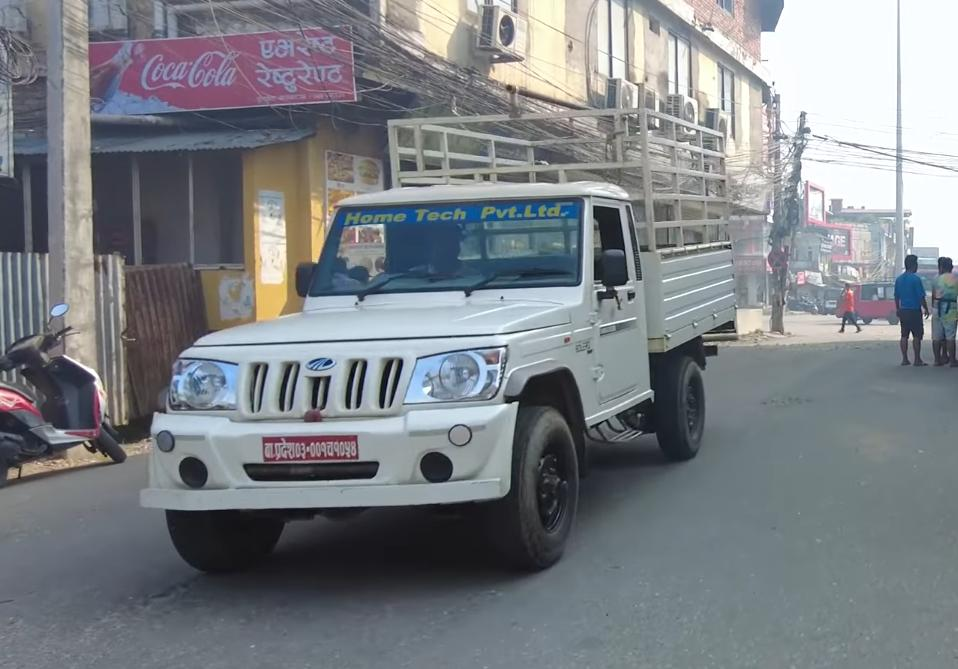scooter: (0, 300, 139, 485)
transport_vehicle: (131, 96, 767, 591)
